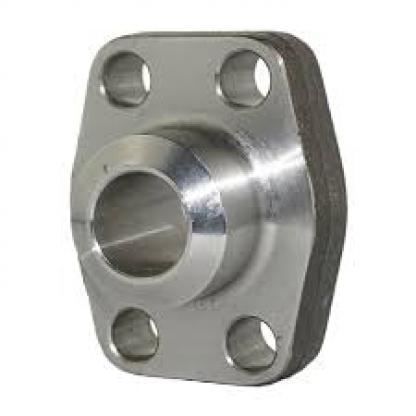FOD: (63, 22, 360, 394)
